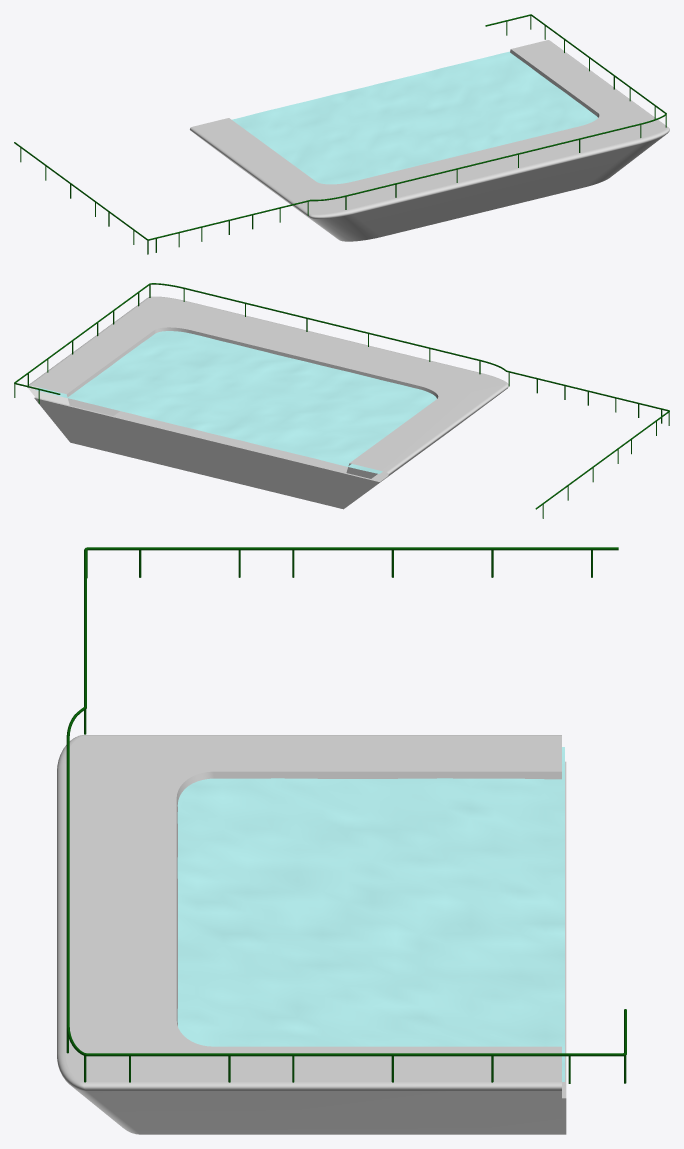
File: Pool_Mesh.fbx
3 views of the same model, one above another, from view 1: azimuth 30°, elevation 25°; view 2: azimuth 150°, elevation 25°; view 3: azimuth 270°, elevation 25° (orthographic). The views are drawn at different scales.
Visible parts, largest first — view 1: Pool_Mesh; view 2: Pool_Mesh; view 3: Pool_Mesh.
Part boxes in pixels (x1,y1,x2,y2): Pool_Mesh: (14, 14, 669, 254); Pool_Mesh: (14, 283, 669, 518); Pool_Mesh: (57, 547, 626, 1134).
Bounding box in the file's own units: 969 × 108 × 458.
